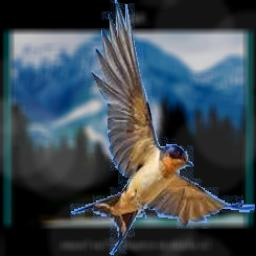Swallow: (70, 0, 255, 256)
